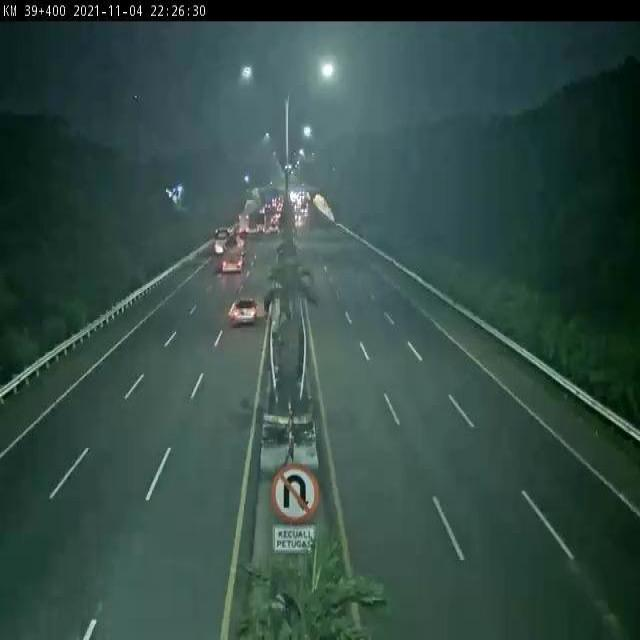bus-l-: (211, 221, 243, 255)
car: (225, 290, 264, 338)
truck-xl-: (220, 236, 251, 273)
